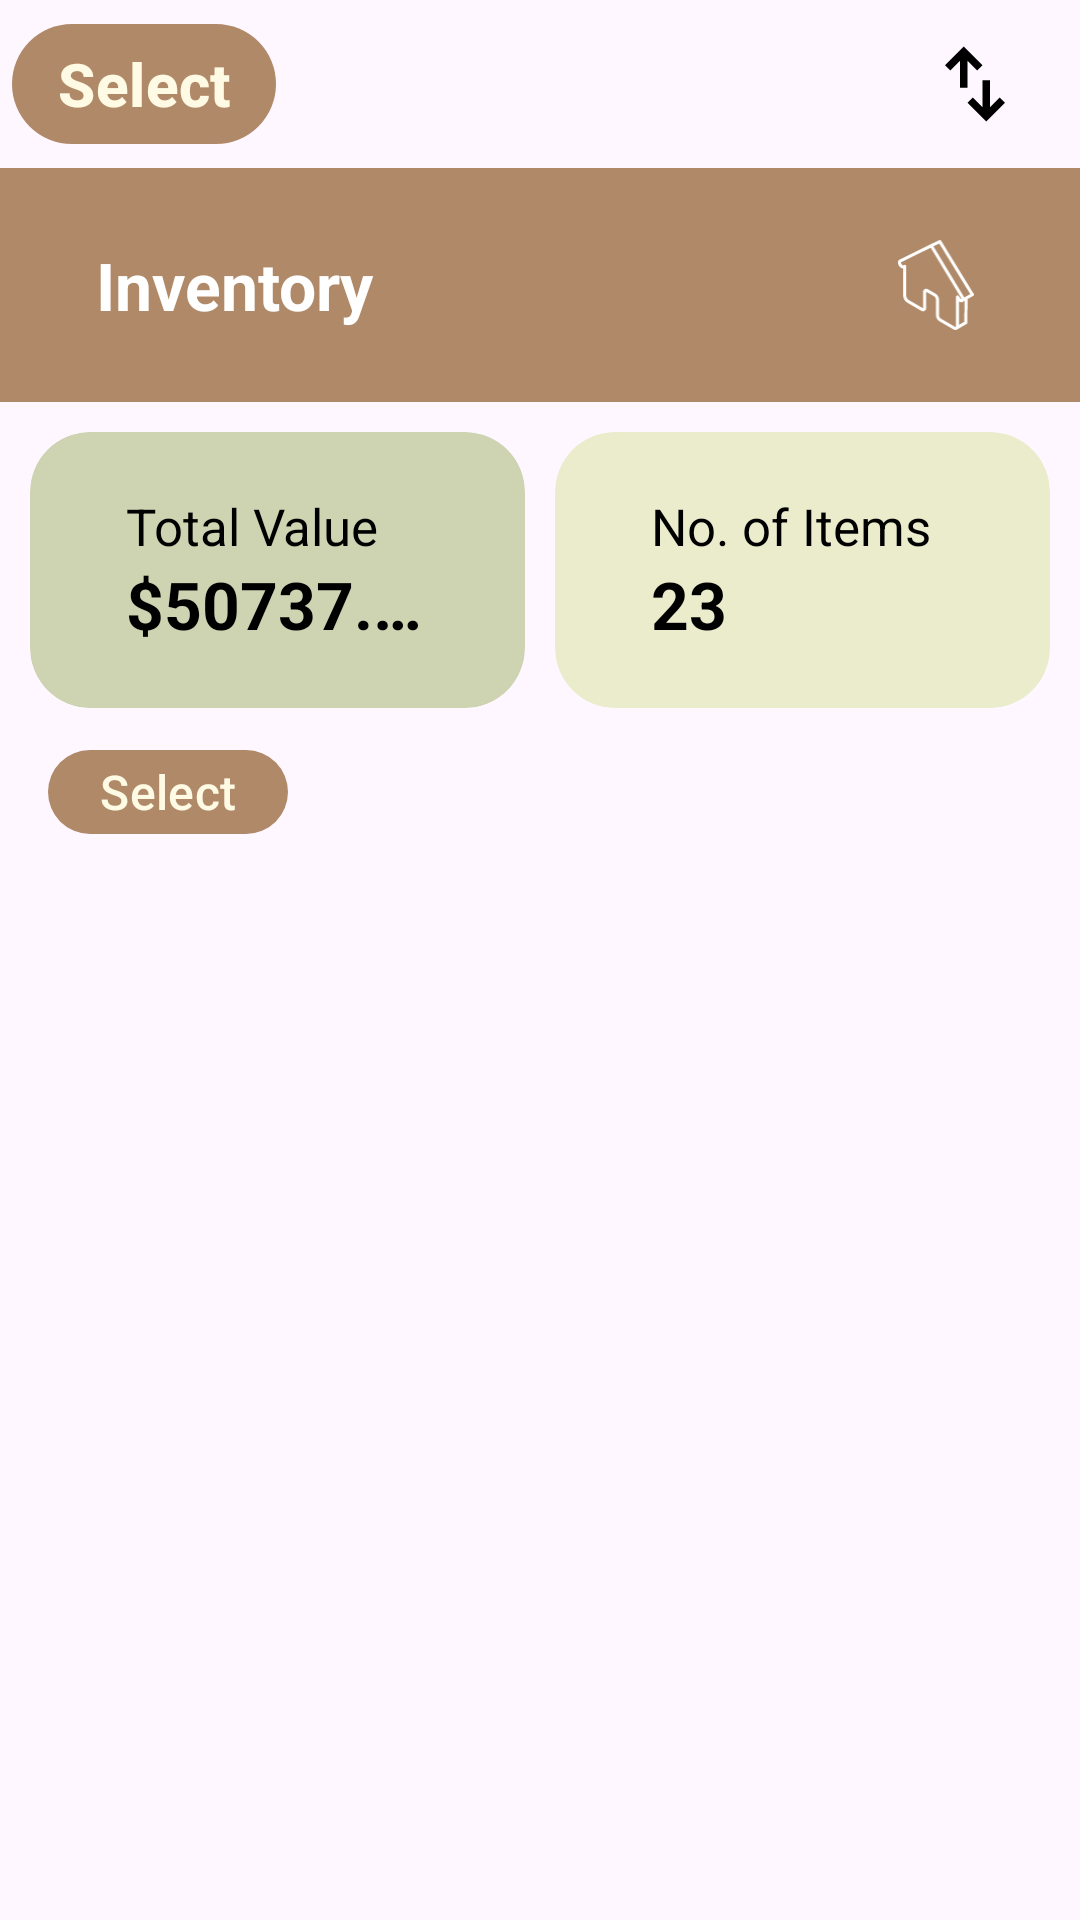

Icons on this 1080px×1920px Android screen, each with the point to tap as (x,y):
toggle between ascending and descending order: (975,84)
